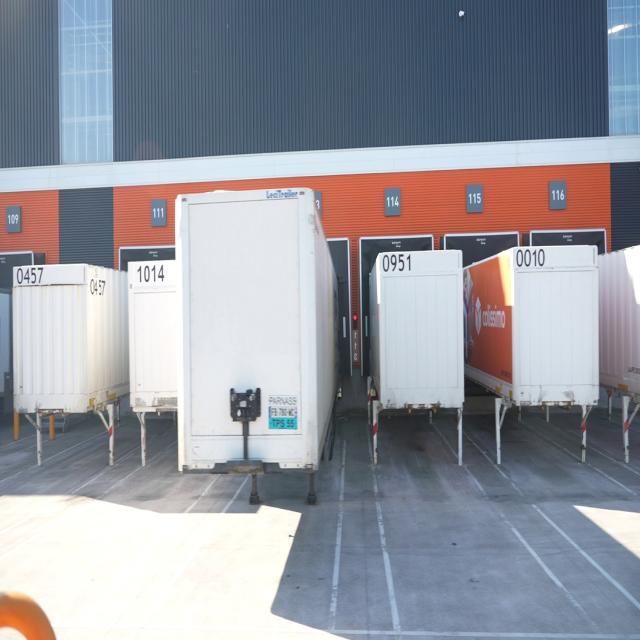Code: (510, 243, 549, 270), (133, 259, 169, 285), (379, 250, 414, 275), (13, 264, 45, 284), (86, 272, 107, 296)
